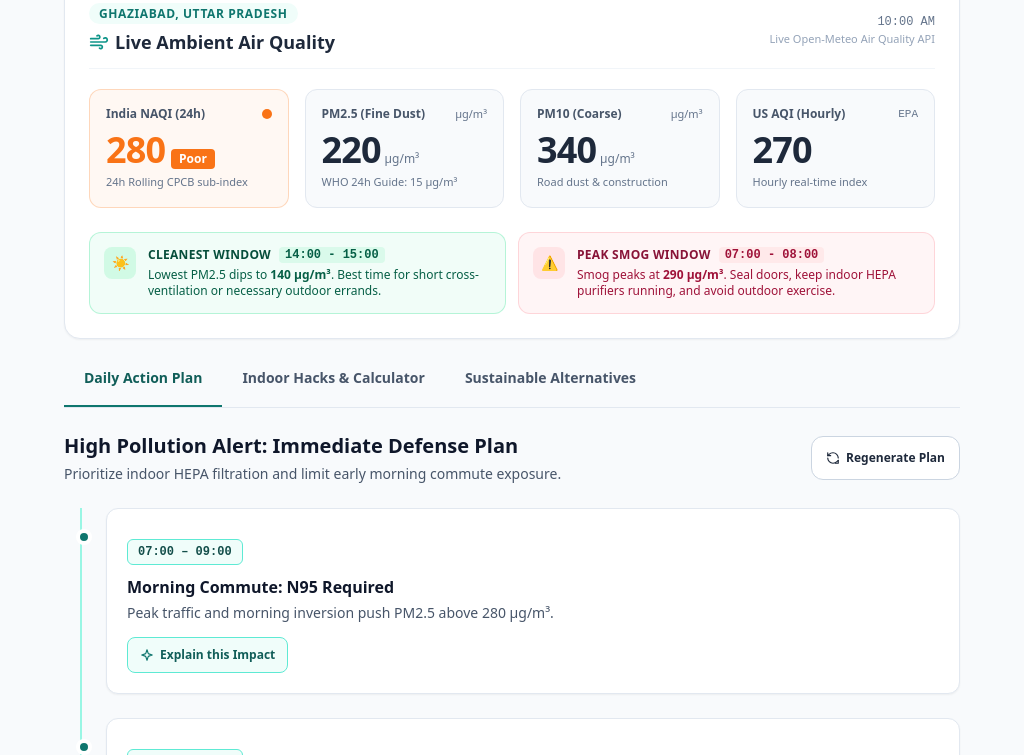
Scenario: Component Flow & Integration Tests › Today View Component State & Tabs › switches between Plan, Hacks, and Alternatives tabs
(page scrolled)
What coordinates should you click on to do the following:
click the tab with test id "tab-hacks"
I would click on:
 (334, 384)
Its box is 222,362 -> 445,406.
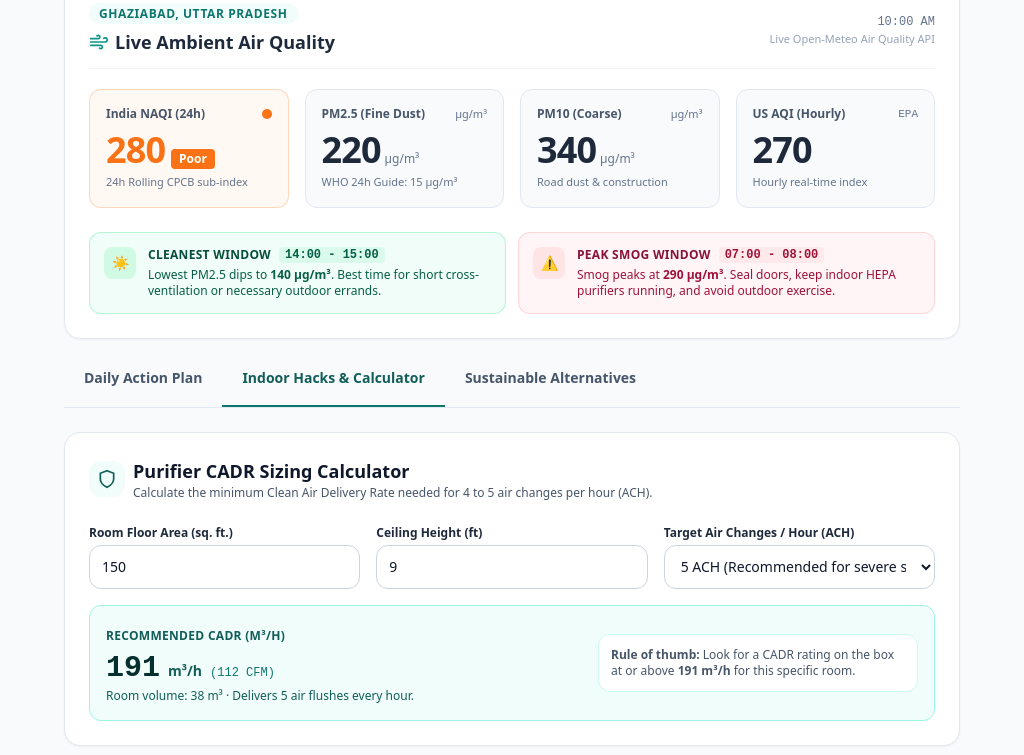
Result: the tab with test id "tab-hacks" is selected at 222,362 -> 445,406
Result: the tab with test id "tab-plan" is not selected at 64,362 -> 222,406
# Click Alternatives tab
What coordinates should you click on to do the following:
click the tab with test id "tab-alternatives"
I would click on:
 (550, 384)
Its box is 445,362 -> 656,406.
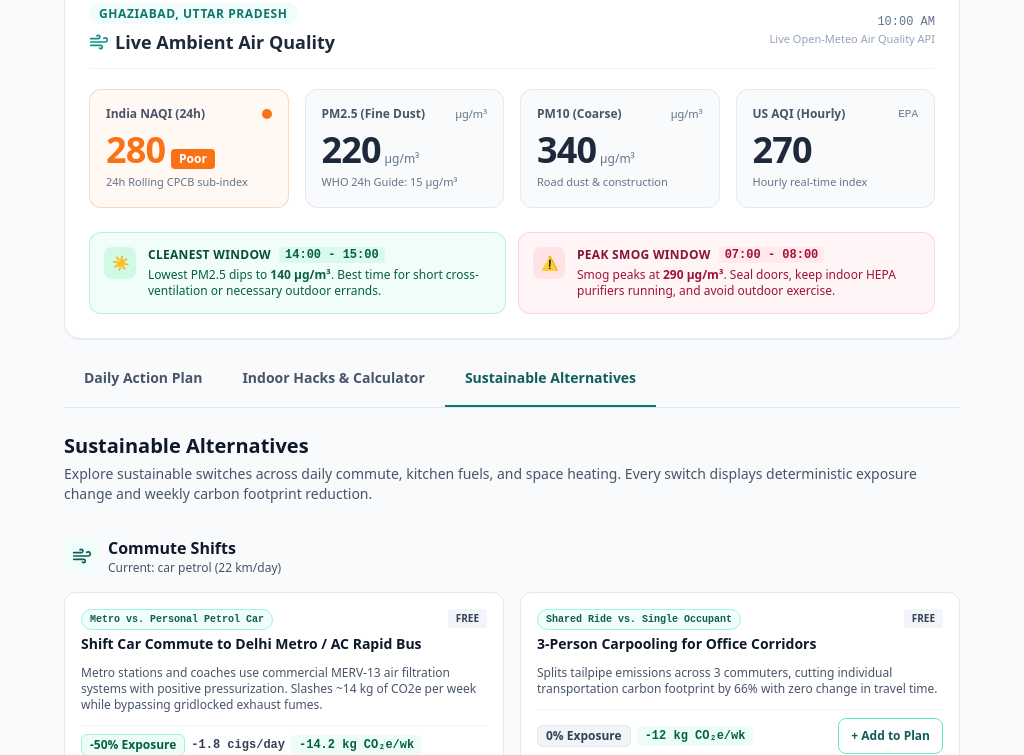
Result: the tab with test id "tab-alternatives" is selected at 445,362 -> 656,406
